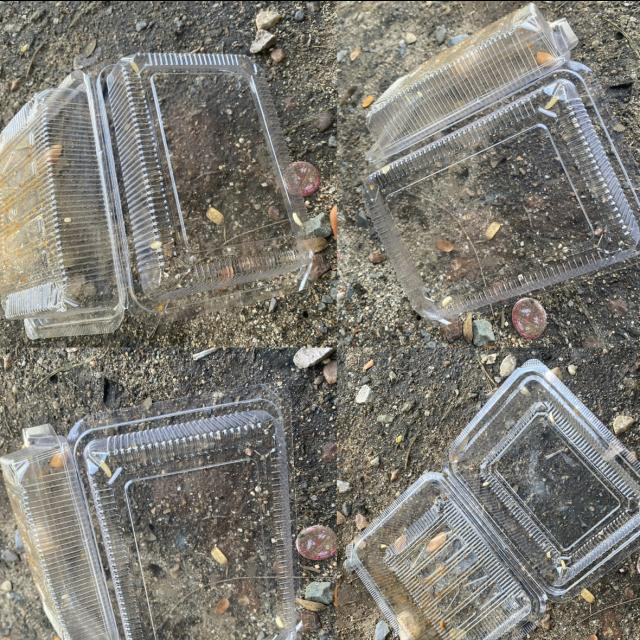plastik: (0, 52, 315, 337), (363, 4, 640, 324), (348, 359, 640, 640), (1, 385, 298, 640)
